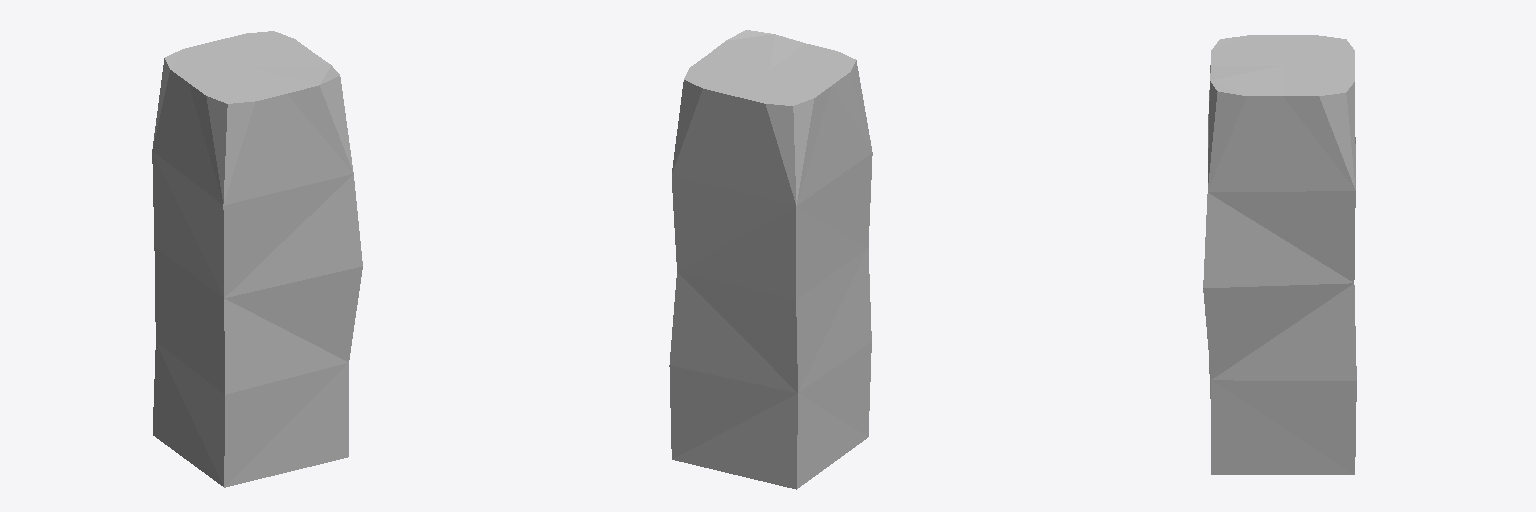
File: road_bollard3.obj
3 views of the same model, side by side, from view 1: azimuth 30°, elevation 25°; view 2: azimuth 150°, elevation 25°; view 3: azimuth 270°, elevation 25° (orthographic).
Parts seen in each view (by area): view 1: road_bollard3_road_bollard3_Material.001; view 2: road_bollard3_road_bollard3_Material.001; view 3: road_bollard3_road_bollard3_Material.001.
Part boxes in pixels (x1,y1,x2,y2): road_bollard3_road_bollard3_Material.001: (152,31,362,487); road_bollard3_road_bollard3_Material.001: (669,30,872,489); road_bollard3_road_bollard3_Material.001: (1203,35,1356,474).
Bounding box in the file's own units: 1.32 × 3.5 × 1.28.